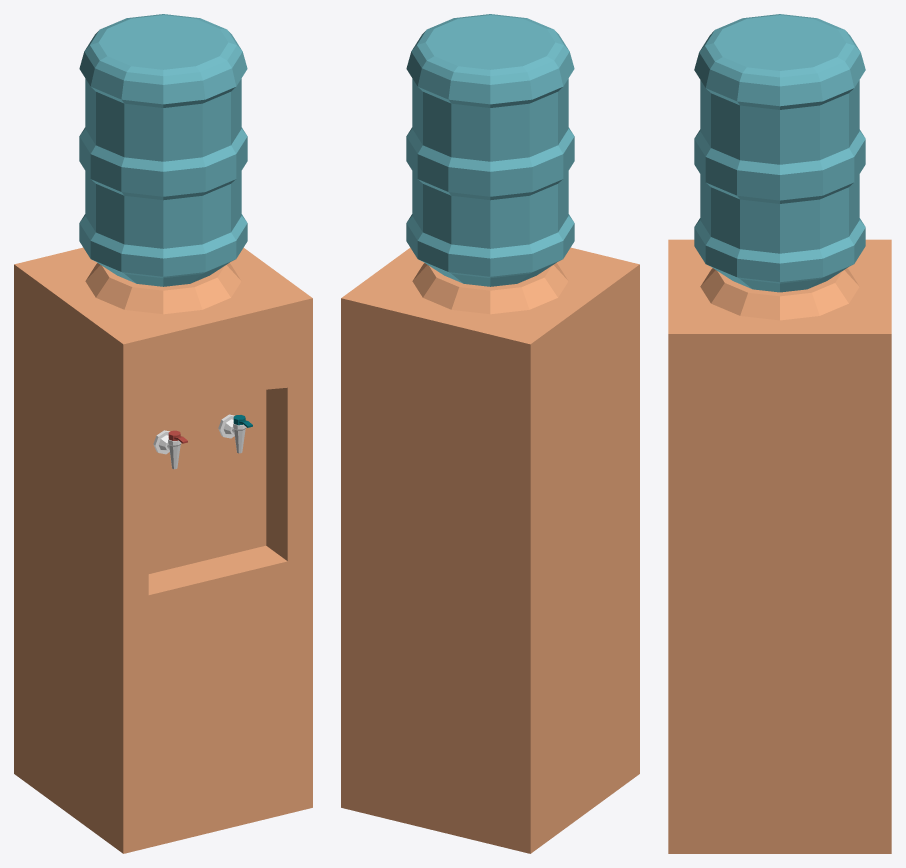
The model's file is WaterCooler.fbx.
3 renders of one model, left to right at view 1: azimuth 30°, elevation 25°; view 2: azimuth 150°, elevation 25°; view 3: azimuth 270°, elevation 25°, orthographic. The views are drawn at different scales.
Visible parts, largest first — view 1: WaterCooler_01; view 2: WaterCooler_01; view 3: WaterCooler_01.
Part boxes in pixels (x1=…): WaterCooler_01: x1=14, y1=14, x2=312, y2=853; WaterCooler_01: x1=341, y1=14, x2=639, y2=853; WaterCooler_01: x1=668, y1=14, x2=891, y2=853.
Size of the model in its own units: 35 by 132 by 35.
